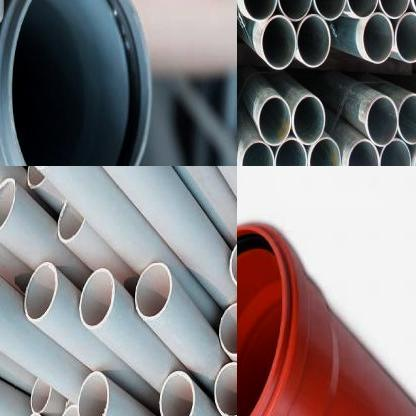pipe: (0, 0, 153, 166), (237, 224, 295, 416), (78, 268, 115, 328), (135, 262, 173, 320), (24, 262, 58, 322), (261, 14, 297, 70), (297, 14, 330, 67), (366, 95, 399, 147), (258, 96, 292, 146), (292, 95, 326, 145), (362, 12, 394, 64), (159, 370, 195, 416), (78, 371, 109, 416), (214, 362, 237, 416), (58, 200, 86, 244), (395, 12, 416, 64), (218, 302, 237, 355), (274, 137, 307, 166), (308, 137, 340, 166), (347, 138, 380, 166), (398, 93, 416, 144), (0, 178, 16, 234), (379, 139, 411, 166), (241, 141, 274, 166), (30, 378, 52, 414), (243, 0, 278, 22), (277, 0, 312, 21), (313, 0, 347, 20), (379, 0, 411, 19), (347, 0, 379, 18), (229, 234, 237, 289)
